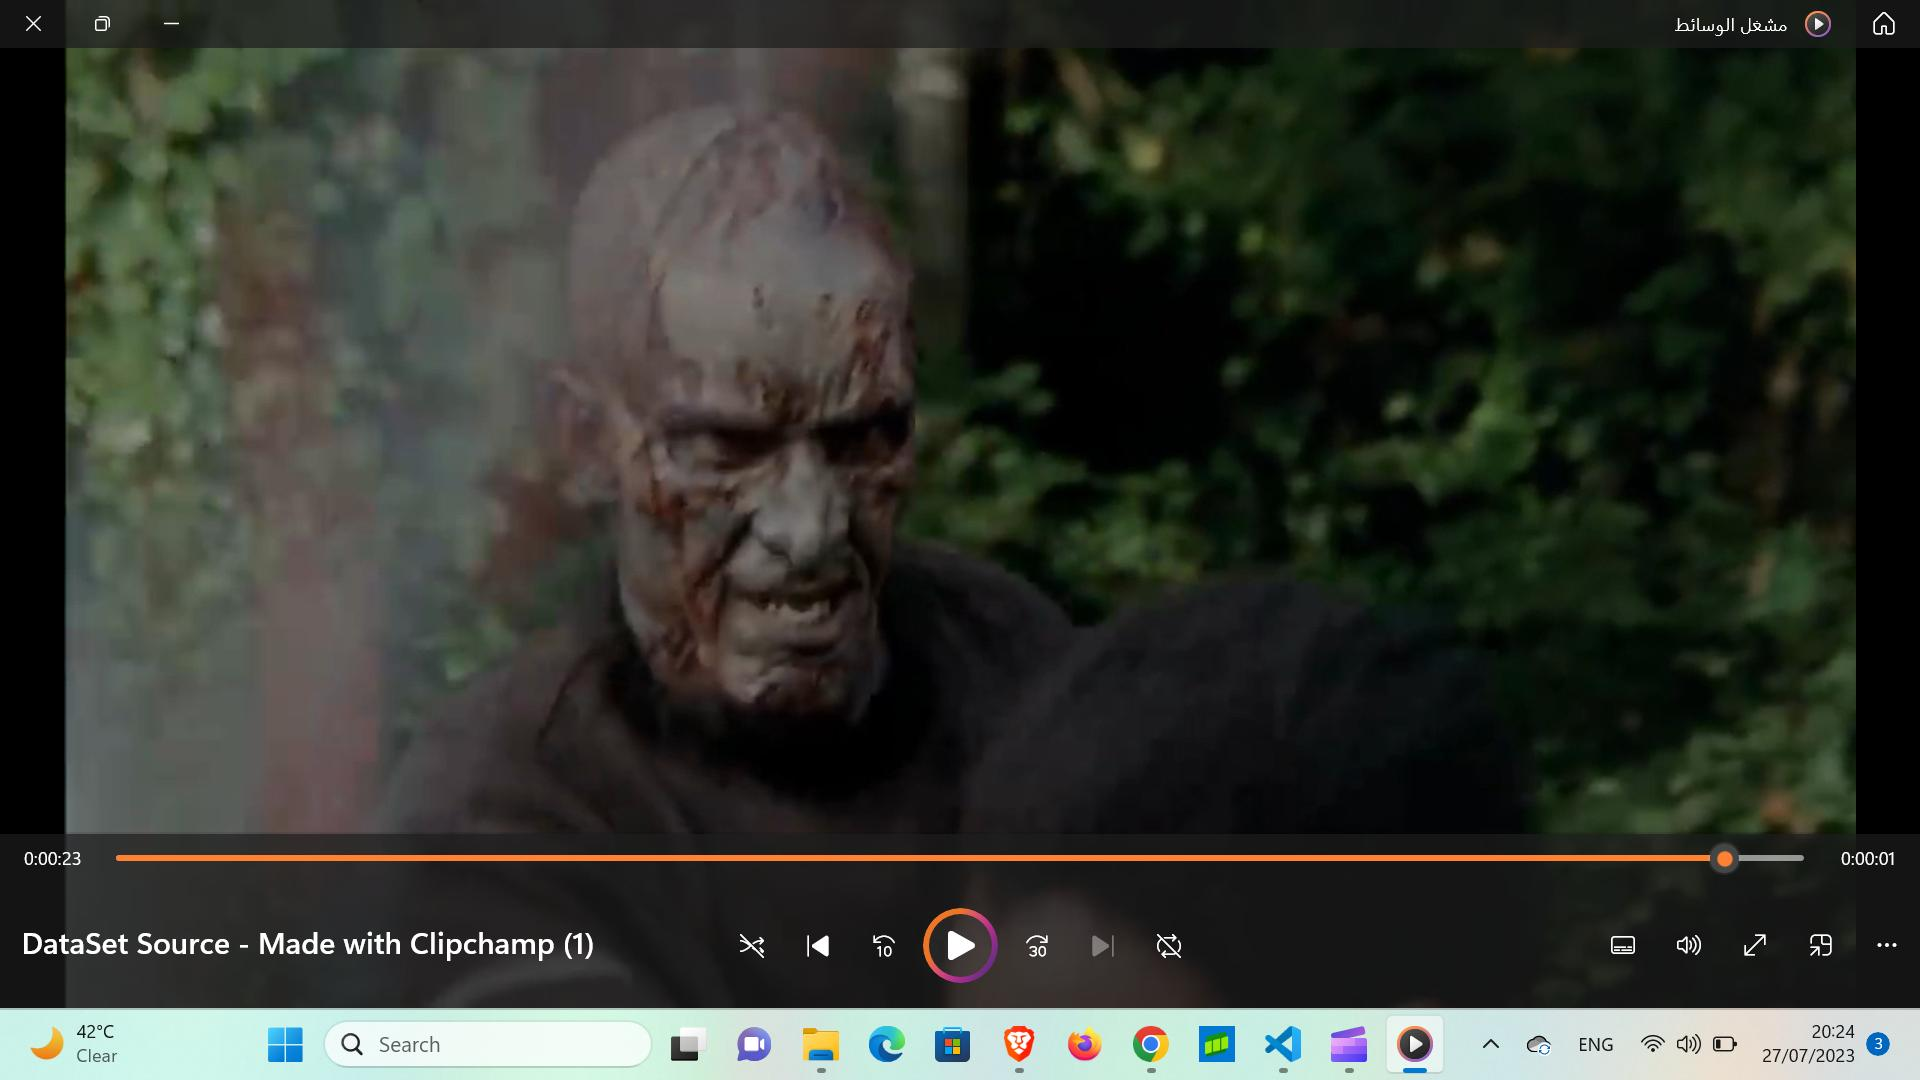Zombie: (541, 115, 940, 713)
